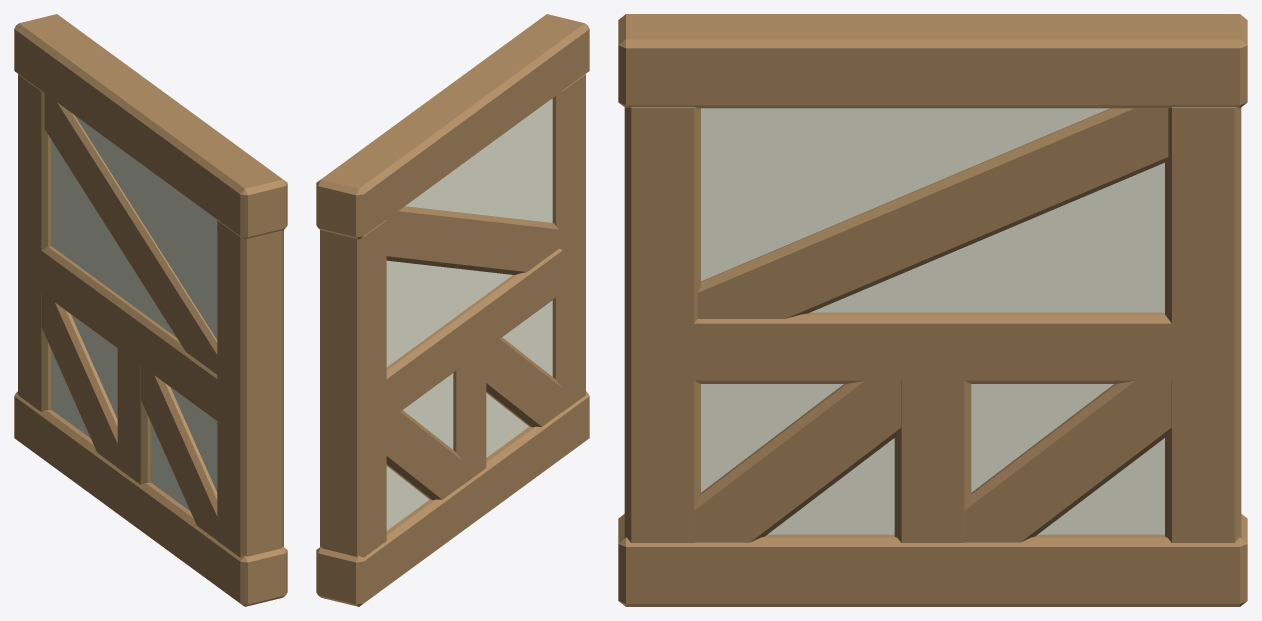
File: BaseWall_9.fbx
3 renders of one model, left to right at view 1: azimuth 30°, elevation 25°; view 2: azimuth 150°, elevation 25°; view 3: azimuth 270°, elevation 25°, orthographic. The views are drawn at different scales.
Visible parts, largest first — view 1: BaseWall.015; view 2: BaseWall.015; view 3: BaseWall.015.
Boxes of the visible parts, bbox=[...] form: BaseWall.015: bbox=[14, 14, 287, 606]; BaseWall.015: bbox=[316, 14, 589, 606]; BaseWall.015: bbox=[618, 14, 1247, 606].
Bounding box in the file's own units: 0.2753 × 2.32 × 2.33.
